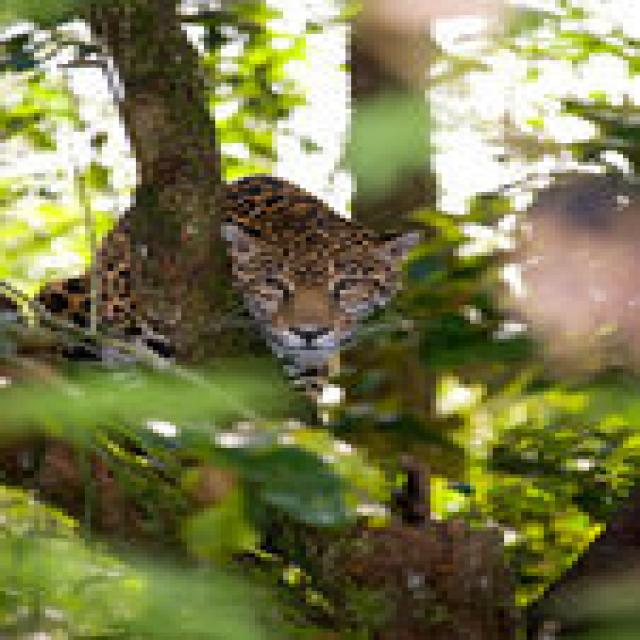Leopard: (0, 170, 408, 392)
